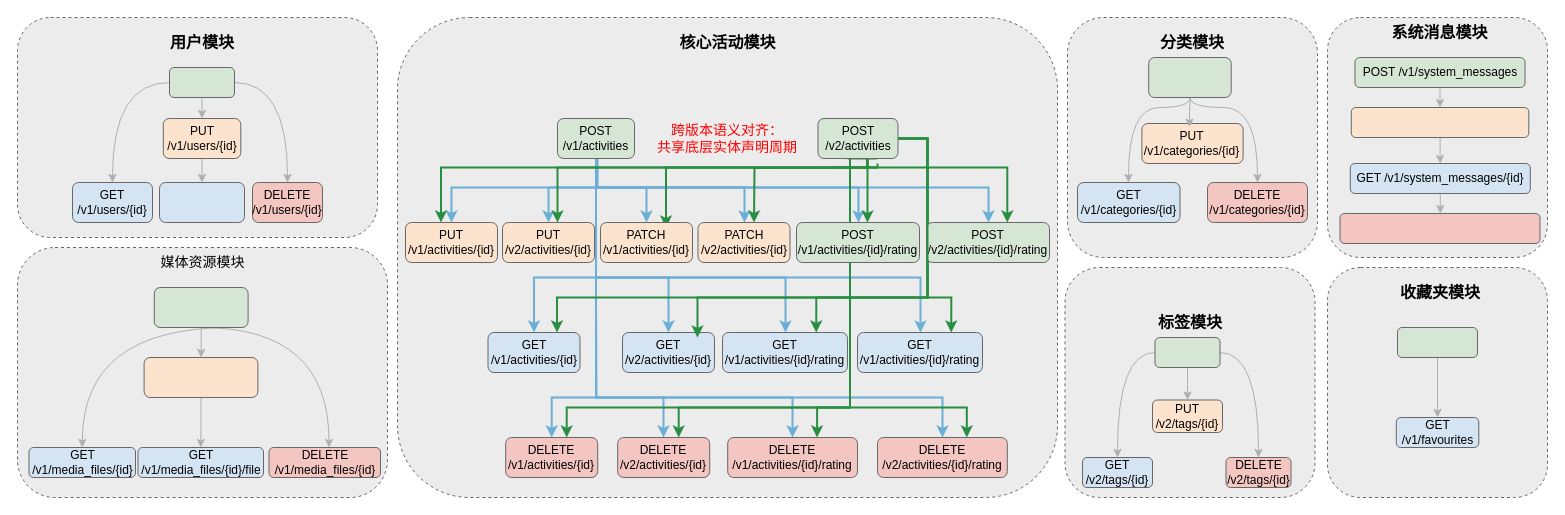
The diagram is 1565 pixels wide and 515 high, and some of its shapes have lost their labels. The centre of each missing label's shape, as x and y in pixels:
"DELETE /v1/system_messages/{id}" goes at point 1439,228.
"GET /v1/users/profile" goes at point 201,202.
"POST / v1/users" goes at point 201,82.
"POST /v1/categories" goes at point 1189,77.
"POST /v1/favourites" goes at point 1437,342.
"POST /v1/media_files" goes at point 200,307.
"POST /v2/tags" goes at point 1187,352.
"PUT /v1/media_files/{id}" goes at point 200,377.
"PUT /v1/system_messages/{id}" goes at point 1439,122.
